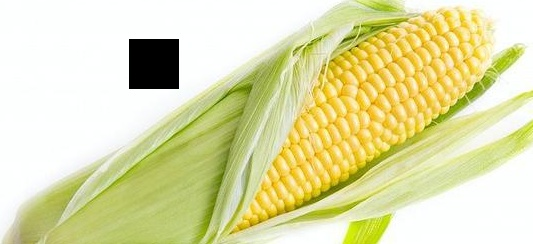corn: (209, 10, 492, 238)
